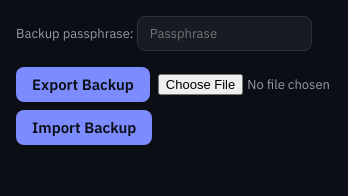
Test: BackupPanel UI › import with wrong passphrase shows error and does not overwrite state
Type "wrong-pass" into the password field with placeholder "passphrase". click: (224, 34)
box: [137, 16, 312, 51]
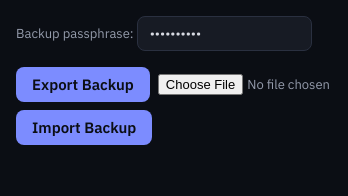
Click the button "Import Backup". click: click(84, 128)
box: [16, 110, 152, 145]
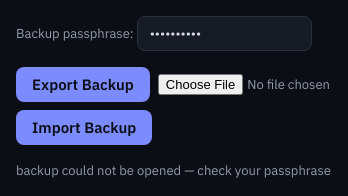
Result: the text "backup could not be opened — check your passphrase" is shown at [16, 162, 331, 179]
